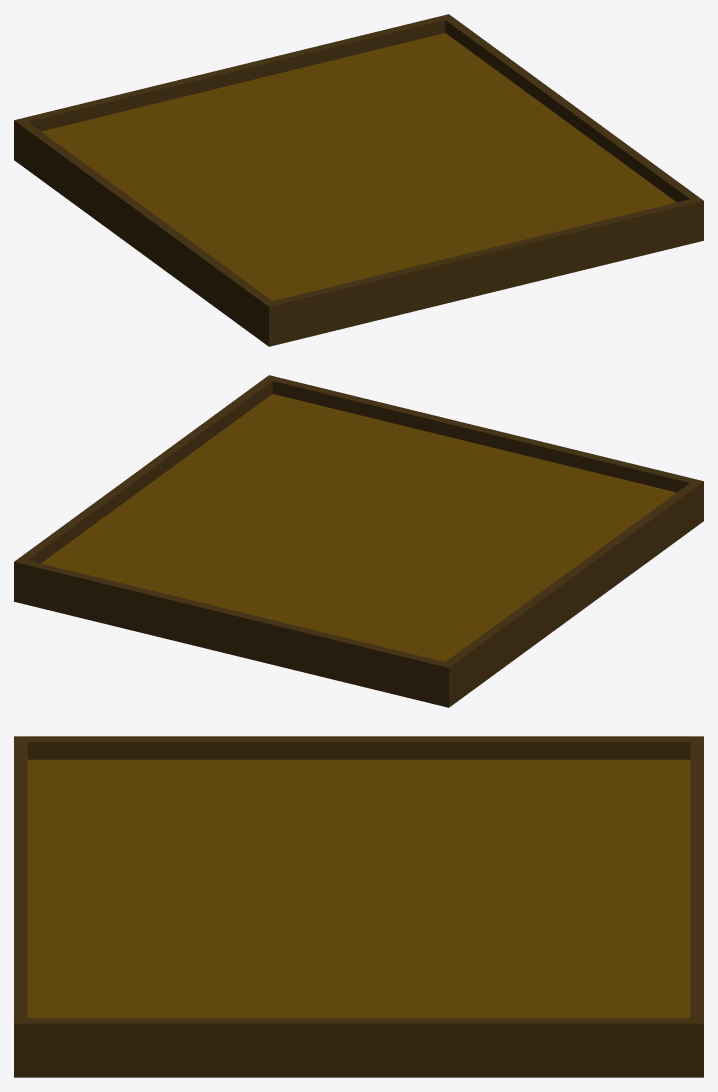
Rendered from board.glb.
3 renders of one model, top to bottom at view 1: azimuth 30°, elevation 25°; view 2: azimuth 150°, elevation 25°; view 3: azimuth 270°, elevation 25°, orthographic. The views are drawn at different scales.
Visible parts, largest first — view 1: Cube; view 2: Cube; view 3: Cube.
Part boxes in pixels (x1,y1,x2,y2): Cube: (14,14,703,346); Cube: (14,375,703,707); Cube: (14,736,703,1077).
Size of the model in its own units: 19.79 by 1.73 by 20.1.
